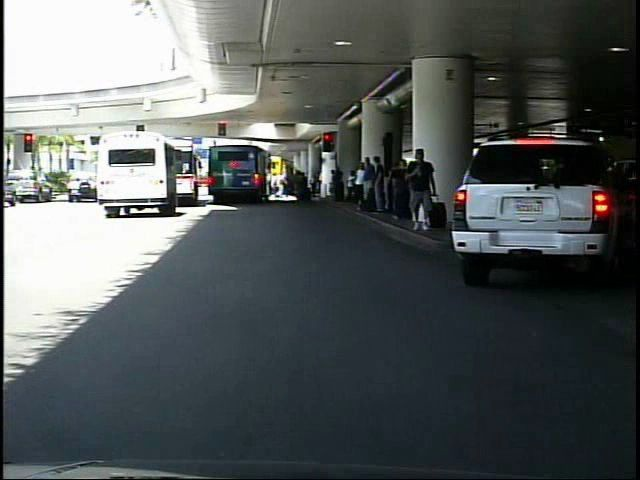person: (405, 148, 437, 235)
